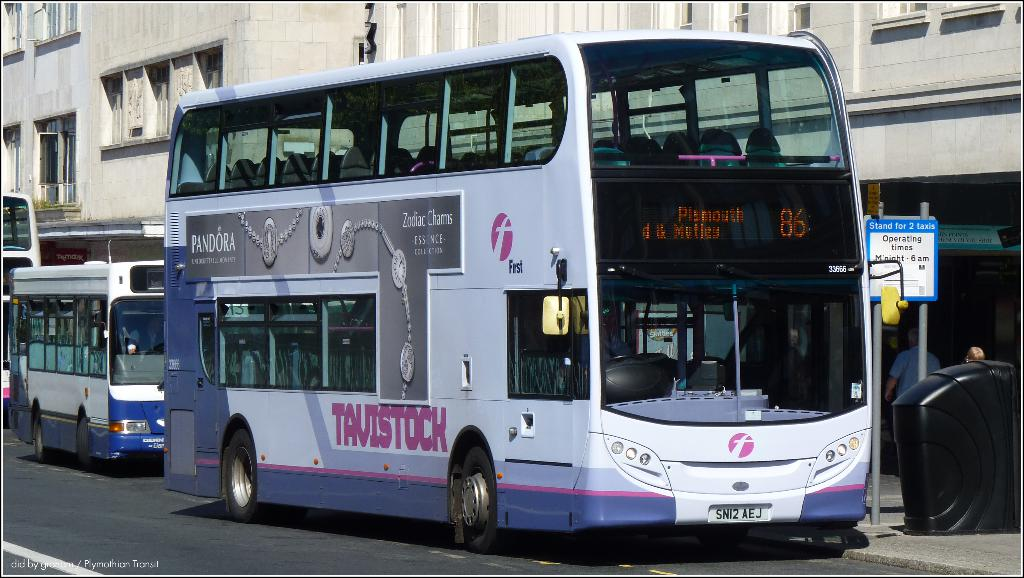Bus: (158, 22, 876, 551), (10, 255, 170, 468), (0, 191, 41, 402)
